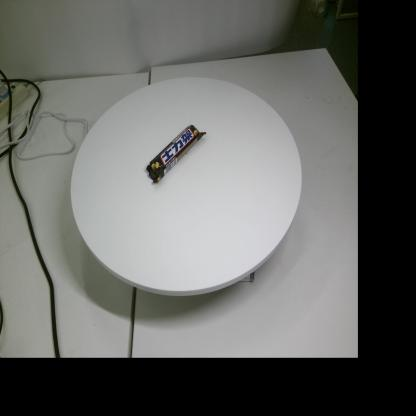Chocolate: (146, 124, 206, 184)
